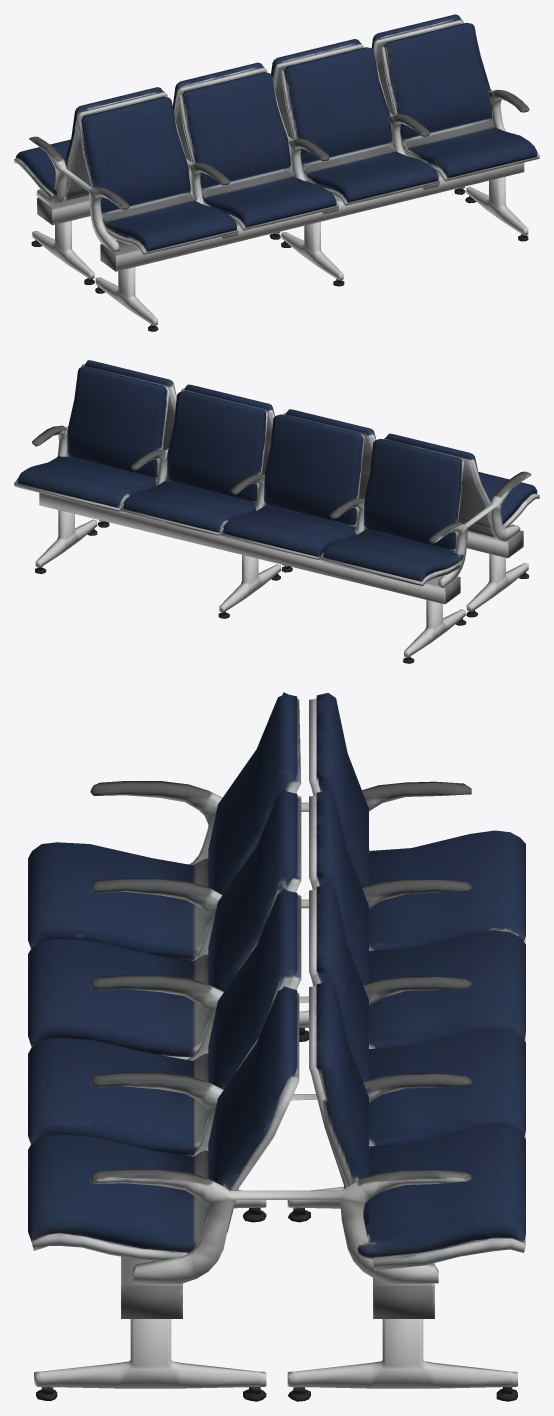
Rendered from assentos_aeroporto.glb.
The picture shows the model from 3 angles, top to bottom: view 1: azimuth 30°, elevation 25°; view 2: azimuth 150°, elevation 25°; view 3: azimuth 270°, elevation 25°; orthographic projection. The views are drawn at different scales.
Parts seen in each view (by area): view 1: Banco de assentos aeroportuários; view 2: Banco de assentos aeroportuários; view 3: Banco de assentos aeroportuários.
Part boxes in pixels (left/top/right/bottom): Banco de assentos aeroportuários: left=14, top=14, right=539, bottom=331; Banco de assentos aeroportuários: left=14, top=360, right=539, bottom=663; Banco de assentos aeroportuários: left=28, top=692, right=525, bottom=1401.
Size of the model in its own units: 0.959 by 0.3809 by 0.502.
1 material, 1 textured.
